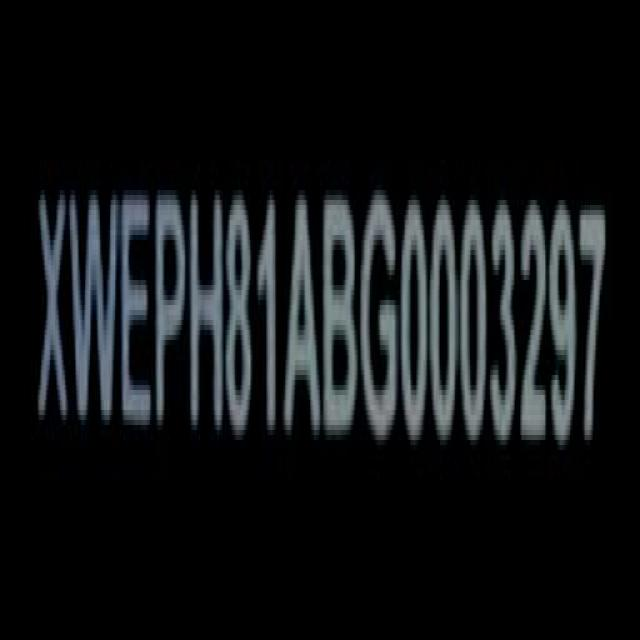0: (401, 198, 431, 448), (430, 198, 459, 446), (461, 196, 489, 444)
1: (257, 189, 281, 441)
2: (520, 207, 548, 448)
3: (491, 196, 520, 446)
7: (579, 199, 608, 451)
8: (225, 190, 253, 440)
9: (548, 203, 576, 448)
A: (285, 196, 322, 445)
B: (323, 191, 359, 443)
E: (120, 184, 154, 440)
G: (359, 192, 403, 448)
H: (190, 188, 226, 441)
P: (156, 186, 188, 437)
W: (70, 183, 124, 438)
X: (38, 185, 71, 435)
